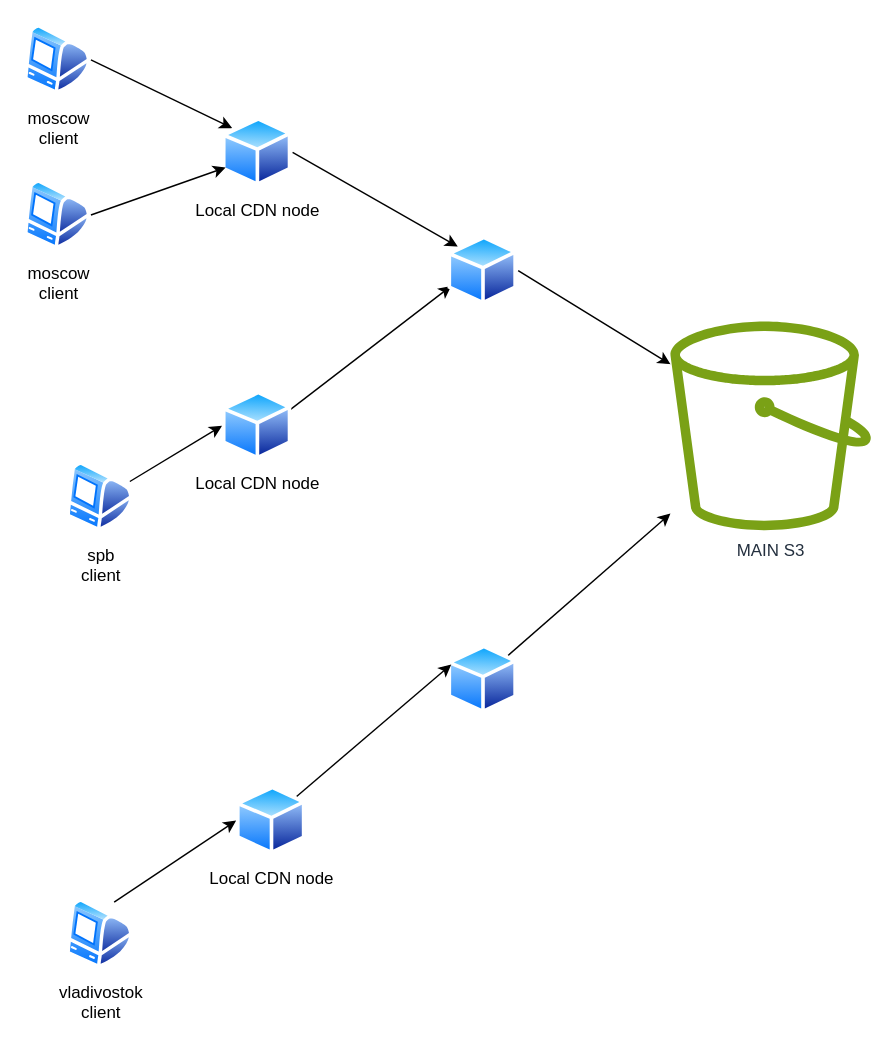
The diagram is 895 pixels wide and 1048 high, and some of its shapes have lost their labels. Here are the shapes that lost their labels. From the top down, the centre of each, then its label:
At (x=482, y=270): "Central Russia CDN node".
At (x=482, y=678): "East Russia CDN node".
